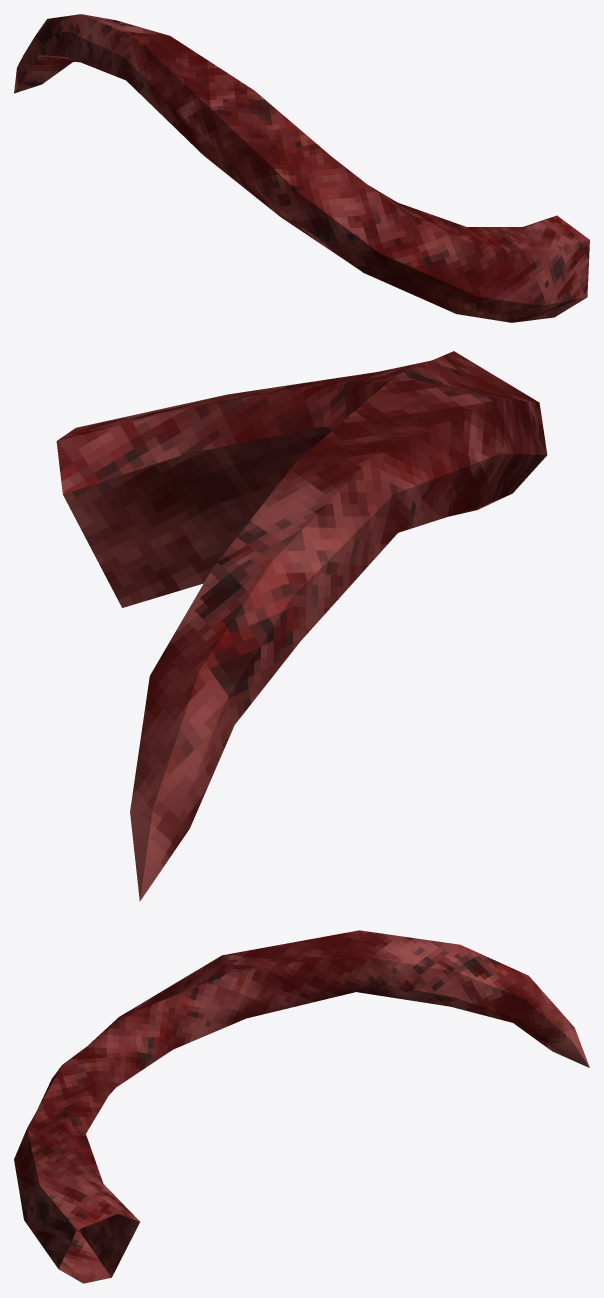
File: arm_tendril.fbx
3 renders of one model, top to bottom at view 1: azimuth 30°, elevation 25°; view 2: azimuth 150°, elevation 25°; view 3: azimuth 270°, elevation 25°, orthographic. The views are drawn at different scales.
Visible parts, largest first — view 1: arm_tendril; view 2: arm_tendril; view 3: arm_tendril.
Part boxes in pixels (x1,y1,x2,y2): arm_tendril: [14, 14, 589, 322]; arm_tendril: [56, 351, 547, 901]; arm_tendril: [14, 930, 589, 1283].
Size of the model in its own units: 1.43 by 1.02 by 2.35.
